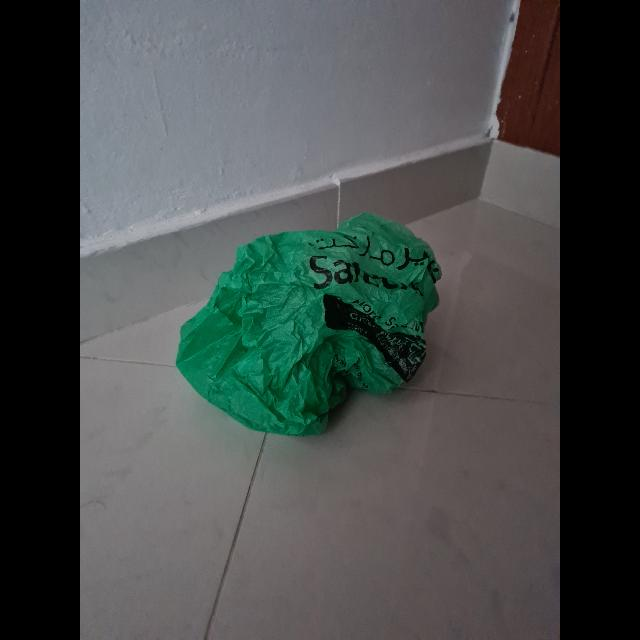plastic_bag: (153, 196, 470, 447)
